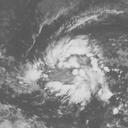cyclone: (23, 34, 111, 106)
